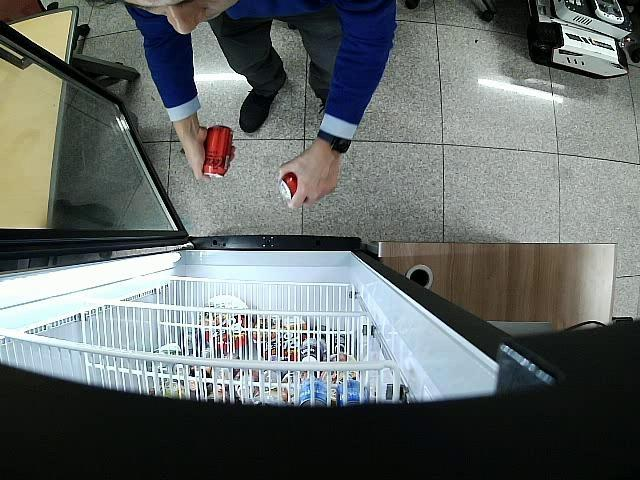11_cocaColaZero: (202, 125, 234, 179), (279, 172, 297, 206)
